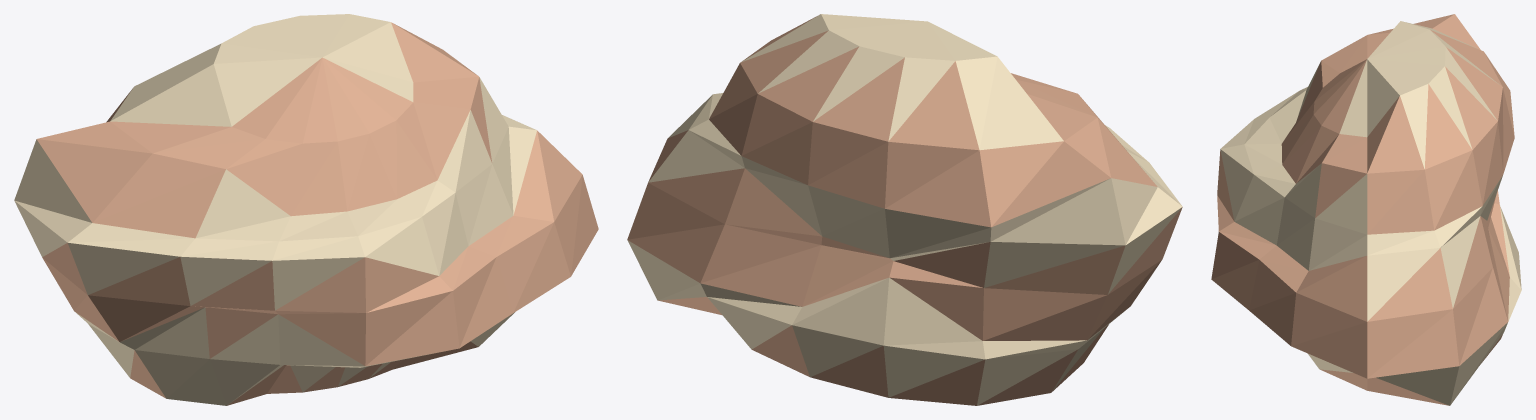
File: SM_Desert_Rock_A.glb
The picture shows the model from 3 angles, left to right: view 1: azimuth 30°, elevation 25°; view 2: azimuth 150°, elevation 25°; view 3: azimuth 270°, elevation 25°; orthographic projection. The views are drawn at different scales.
Visible parts, largest first — view 1: SM_Desert_Rock_A; view 2: SM_Desert_Rock_A; view 3: SM_Desert_Rock_A.
Part boxes in pixels (x1,y1,x2,y2): SM_Desert_Rock_A: (14,14,598,405); SM_Desert_Rock_A: (627,14,1182,405); SM_Desert_Rock_A: (1211,14,1521,405).
Size of the model in its own units: 1.59 by 0.9131 by 0.94.
